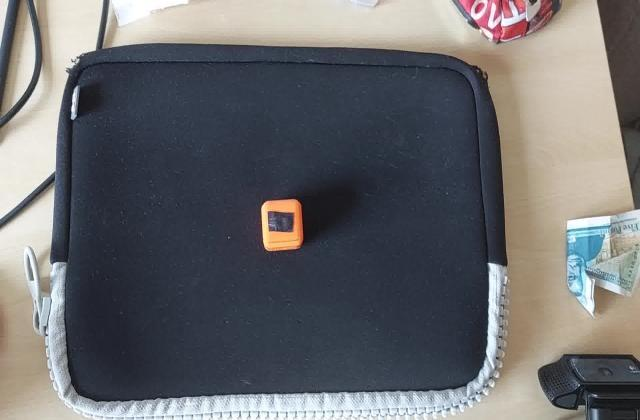black: (266, 210, 296, 236)
sticker: (260, 198, 306, 253)
